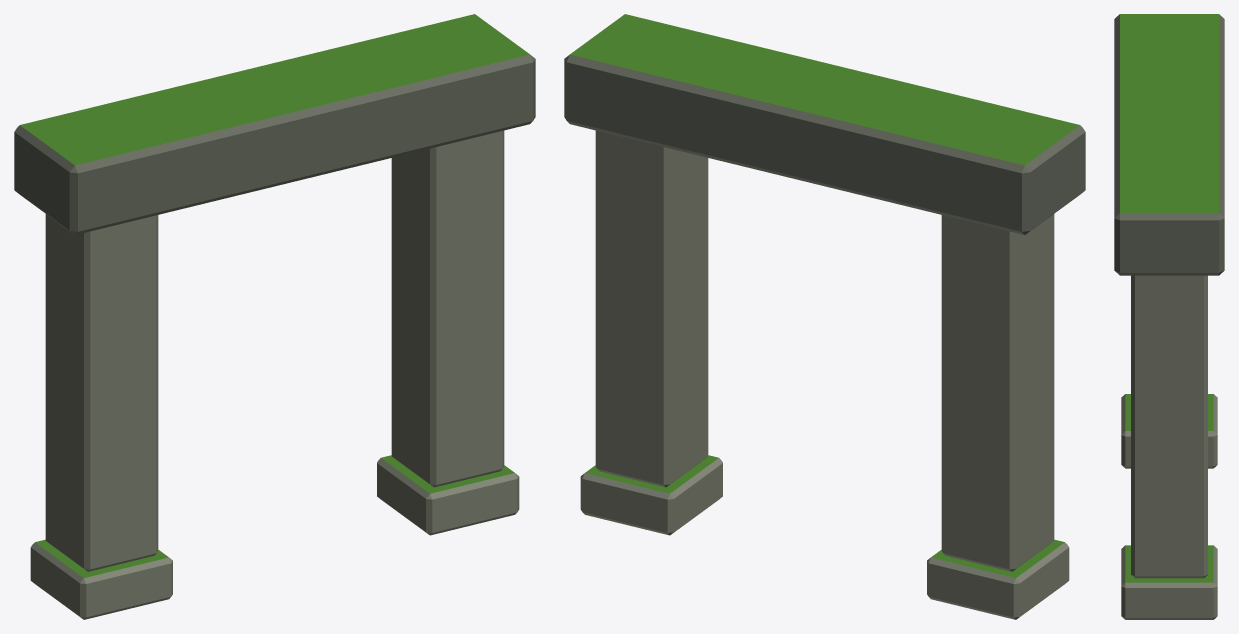
The model's file is Ruin_Arch.fbx.
3 views of the same model, side by side, from view 1: azimuth 30°, elevation 25°; view 2: azimuth 150°, elevation 25°; view 3: azimuth 270°, elevation 25° (orthographic). The views are drawn at different scales.
Visible parts, largest first — view 1: Ruin_Arch.001; view 2: Ruin_Arch.001; view 3: Ruin_Arch.001.
Boxes of the visible parts, bbox=[...] form: Ruin_Arch.001: bbox=[14, 14, 535, 619]; Ruin_Arch.001: bbox=[564, 14, 1085, 619]; Ruin_Arch.001: bbox=[1114, 14, 1224, 619].
Size of the model in its own units: 3.5 by 3.3 by 0.8.
